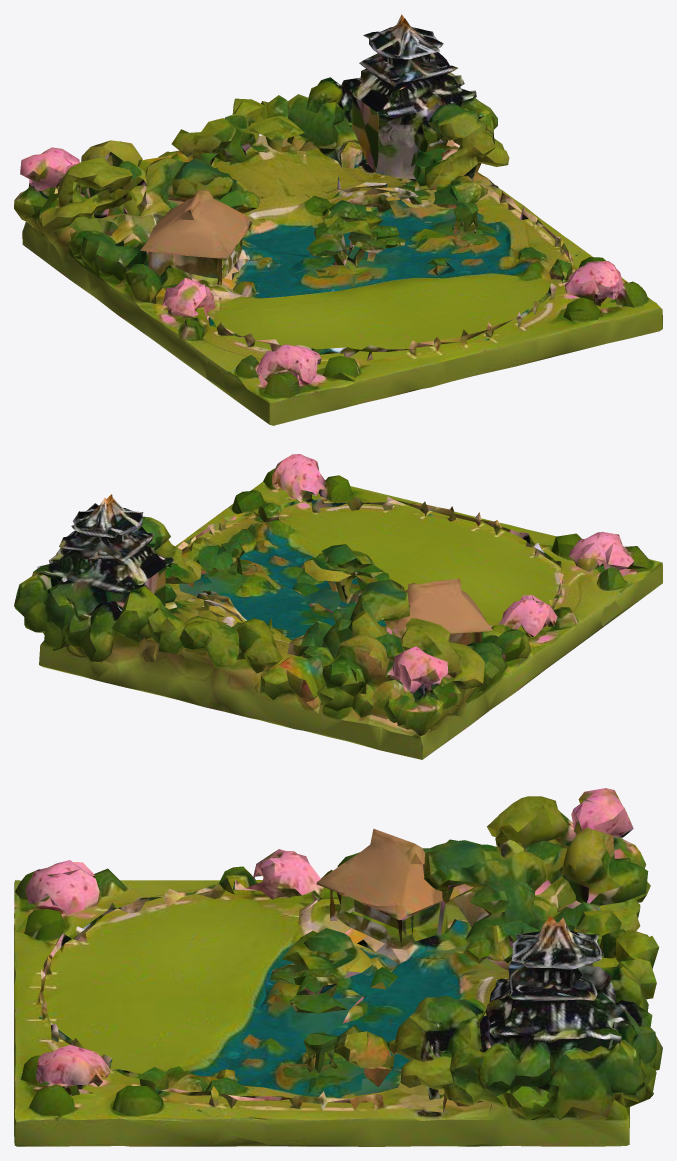
File: korakuen.glb
The picture shows the model from 3 angles, top to bottom: view 1: azimuth 30°, elevation 25°; view 2: azimuth 150°, elevation 25°; view 3: azimuth 270°, elevation 25°; orthographic projection. The views are drawn at different scales.
Visible parts, largest first — view 1: logan-textured.obj; view 2: logan-textured.obj; view 3: logan-textured.obj.
Part boxes in pixels (x1,y1,x2,y2): logan-textured.obj: (14,14,662,425); logan-textured.obj: (14,454,662,759); logan-textured.obj: (14,788,662,1146).
Size of the model in its own units: 0.9819 by 0.3503 by 1.
Materials: 1 (1 with a texture image).
